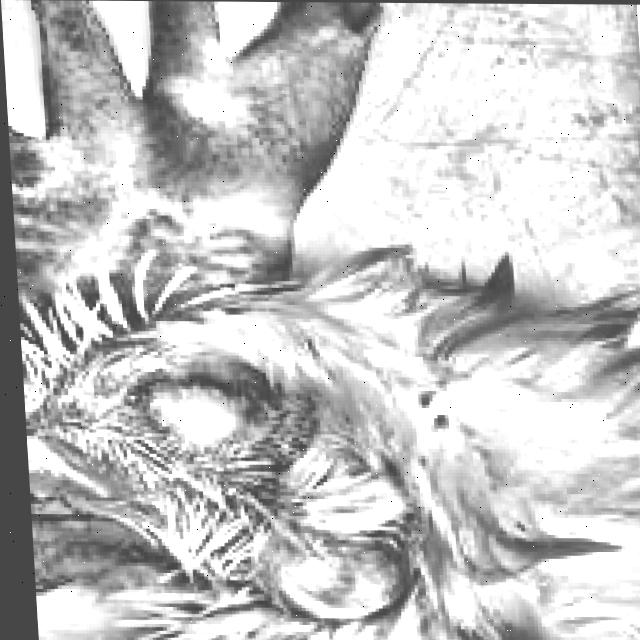Newcastle: (0, 0, 422, 608)
